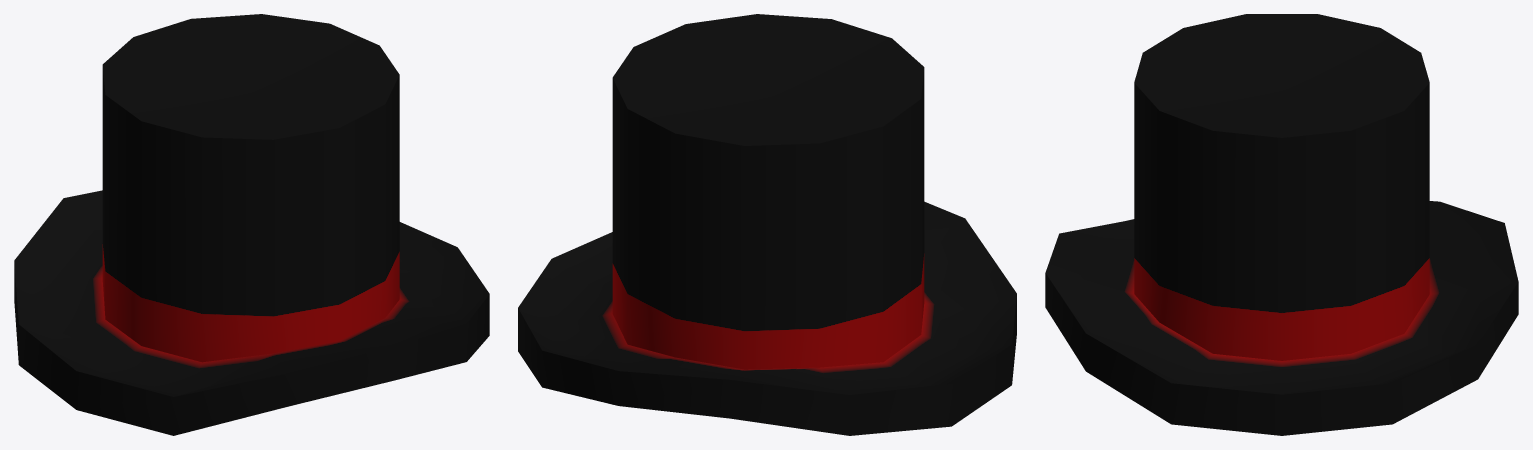
The model's file is topHat.fbx.
3 renders of one model, left to right at view 1: azimuth 30°, elevation 25°; view 2: azimuth 150°, elevation 25°; view 3: azimuth 270°, elevation 25°, orthographic. The views are drawn at different scales.
Visible parts, largest first — view 1: pCylinder1; view 2: pCylinder1; view 3: pCylinder1.
Boxes of the visible parts, x1=… form: pCylinder1: x1=14, y1=14, x2=489, y2=435; pCylinder1: x1=518, y1=14, x2=1016, y2=435; pCylinder1: x1=1045, y1=14, x2=1518, y2=435.
Size of the model in its own units: 1.17 by 0.7159 by 1.18.
Materials: 1 (1 with a texture image).
